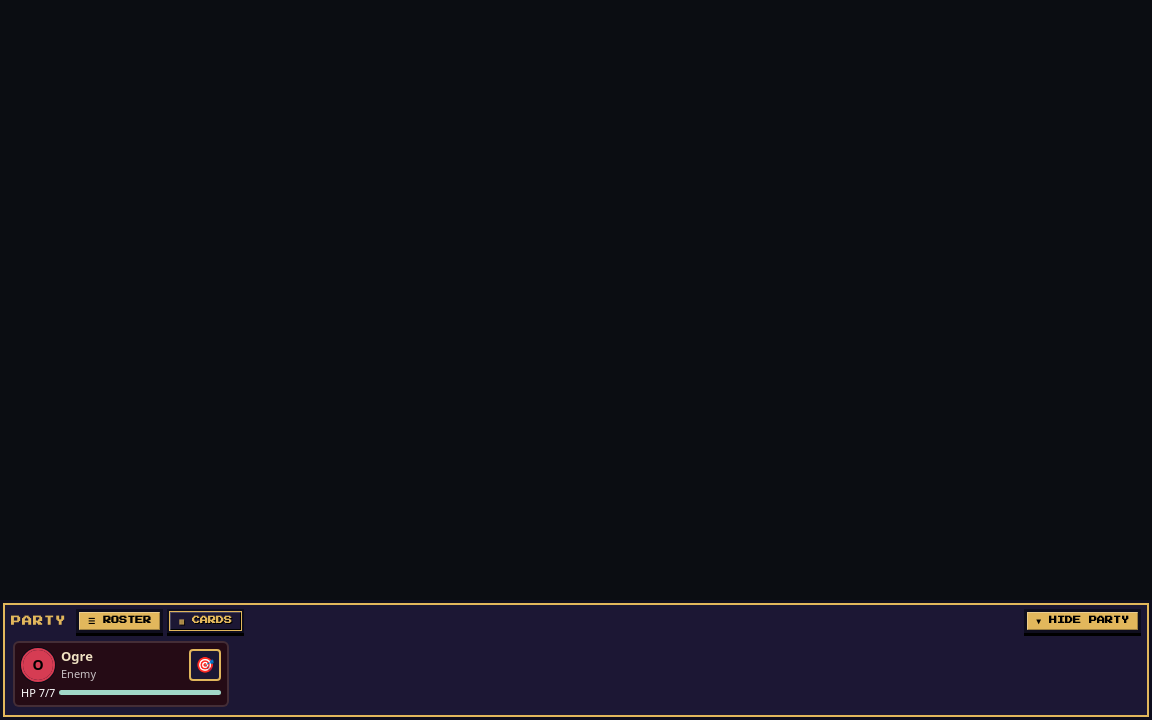
it: EntitiesPanel — an NPC's token settings › offers Lock and Size while its token is on the map
Click the button "▦ Cards": (206, 620) [167,608,244,632]
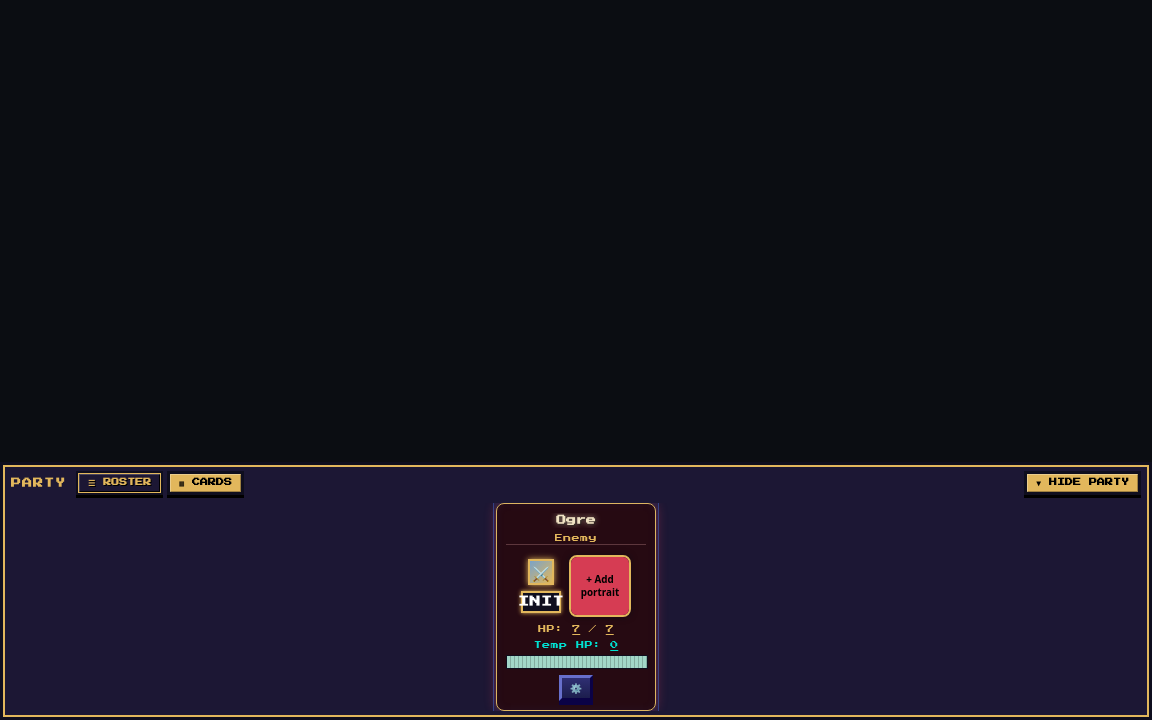
Click the button named "NPC settings": (576, 688) [559,675,593,701]
(page scrolled)
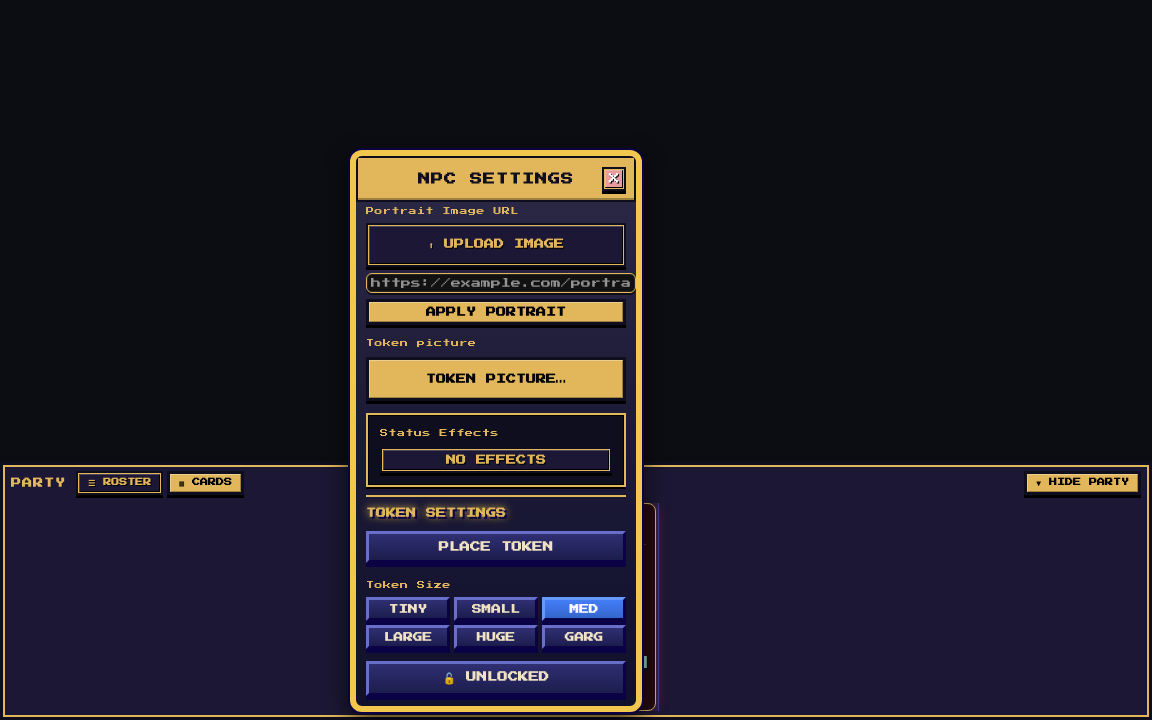
Result: the text "Token Size" is shown at [366,581,451,589]
Result: the button "🔓 Unlocked" is shown at [366,661,626,696]
